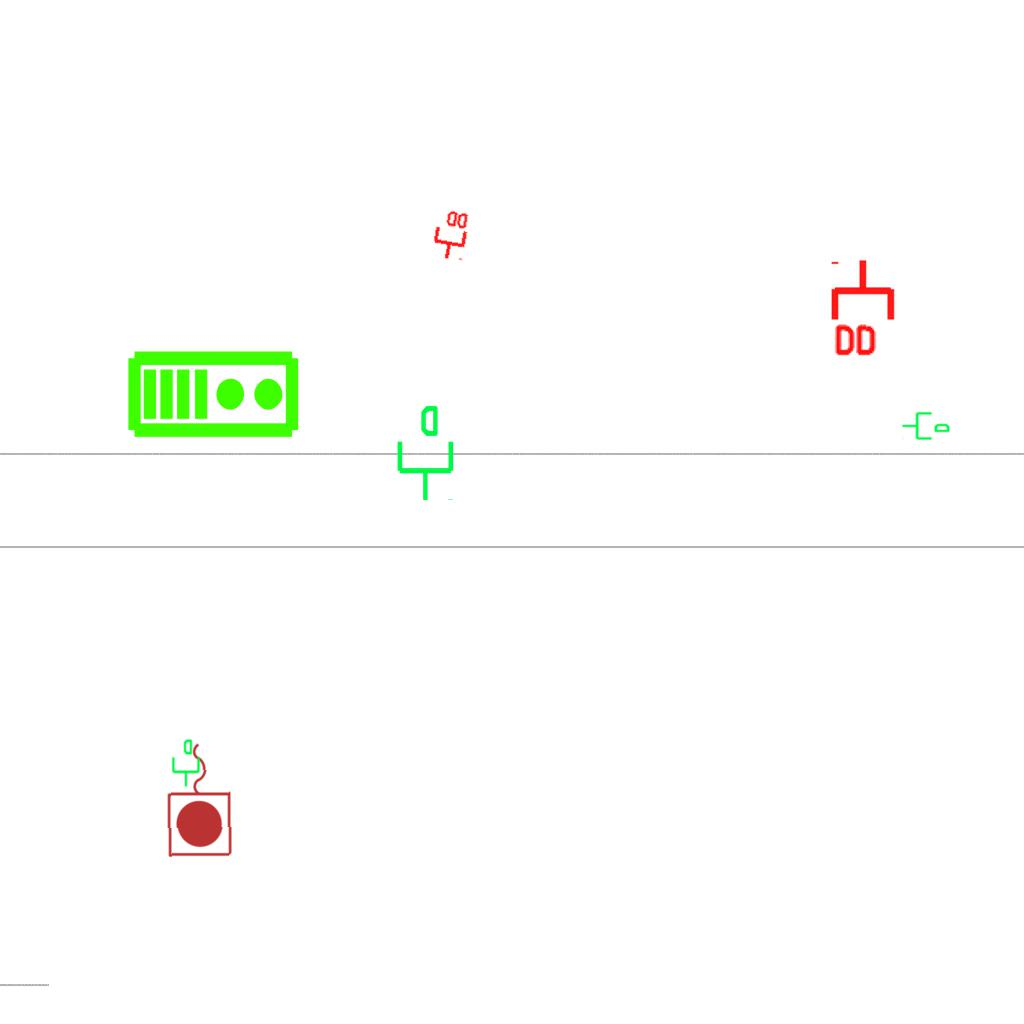Datenanschluss_einfach: (389, 403, 458, 503), (901, 408, 951, 442), (168, 738, 202, 788)
Datenanschluss_zweifach: (830, 257, 899, 360), (428, 206, 472, 263)
Gegensprechanlage_mit_Video: (126, 345, 302, 440)
Zugtaster: (162, 737, 238, 861)
